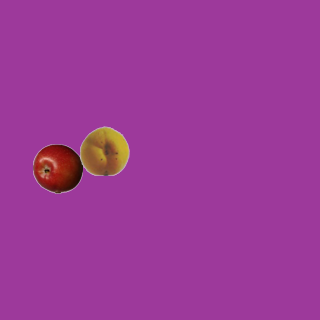Apple Braeburn: (32, 143, 82, 193)
Peach 2: (79, 125, 129, 175)
